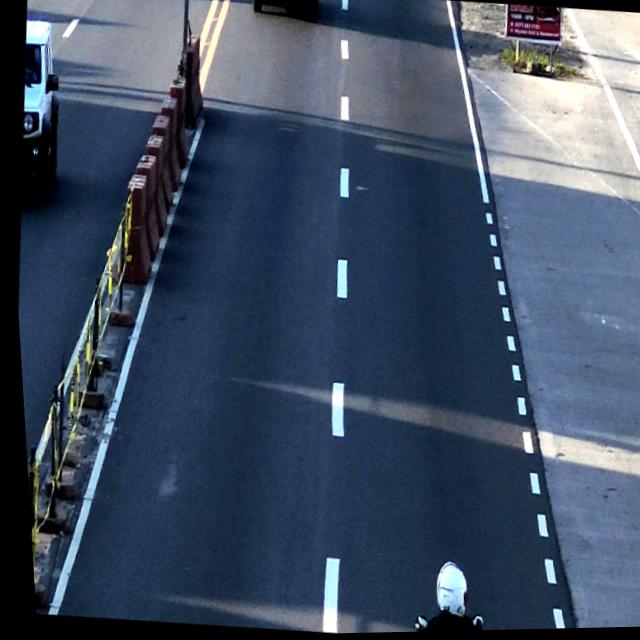Motorcycle: (406, 557, 472, 633)
